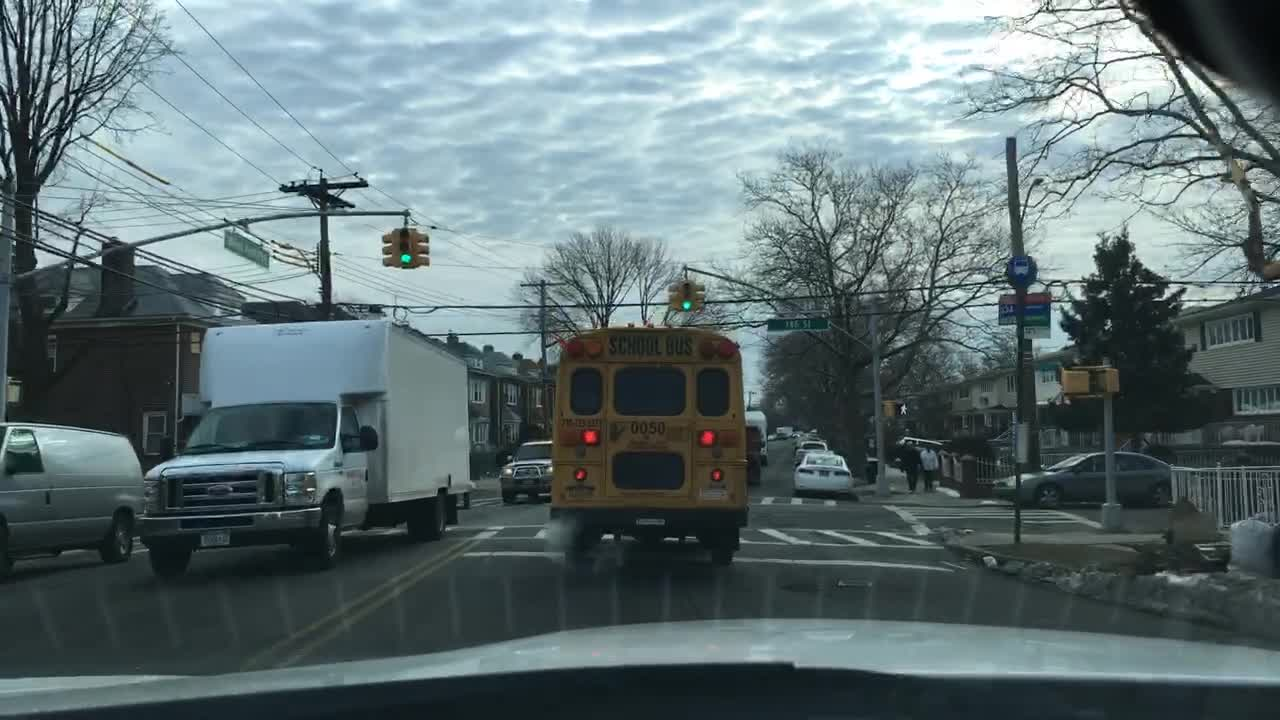bus: (549, 325, 746, 563)
car: (1, 420, 147, 571), (993, 450, 1171, 510), (499, 441, 554, 502), (792, 451, 850, 495), (744, 409, 767, 461), (746, 424, 764, 486), (792, 439, 827, 465), (900, 434, 945, 447), (792, 432, 816, 440), (769, 431, 776, 441)
person: (898, 441, 922, 491), (919, 442, 943, 491)
traffic light: (391, 227, 413, 265), (1061, 370, 1088, 394), (413, 233, 431, 267), (1095, 369, 1120, 393), (666, 280, 678, 311), (381, 230, 391, 267), (682, 279, 691, 311), (696, 280, 704, 310), (895, 403, 908, 416), (884, 401, 895, 416)
traffic sign: (223, 230, 270, 270), (1024, 290, 1052, 337), (1005, 253, 1035, 286), (766, 318, 828, 330)
truck: (137, 319, 472, 575), (778, 425, 793, 439)
